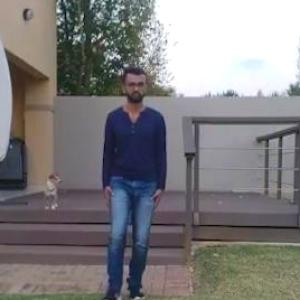follow: (96, 61, 167, 299)
